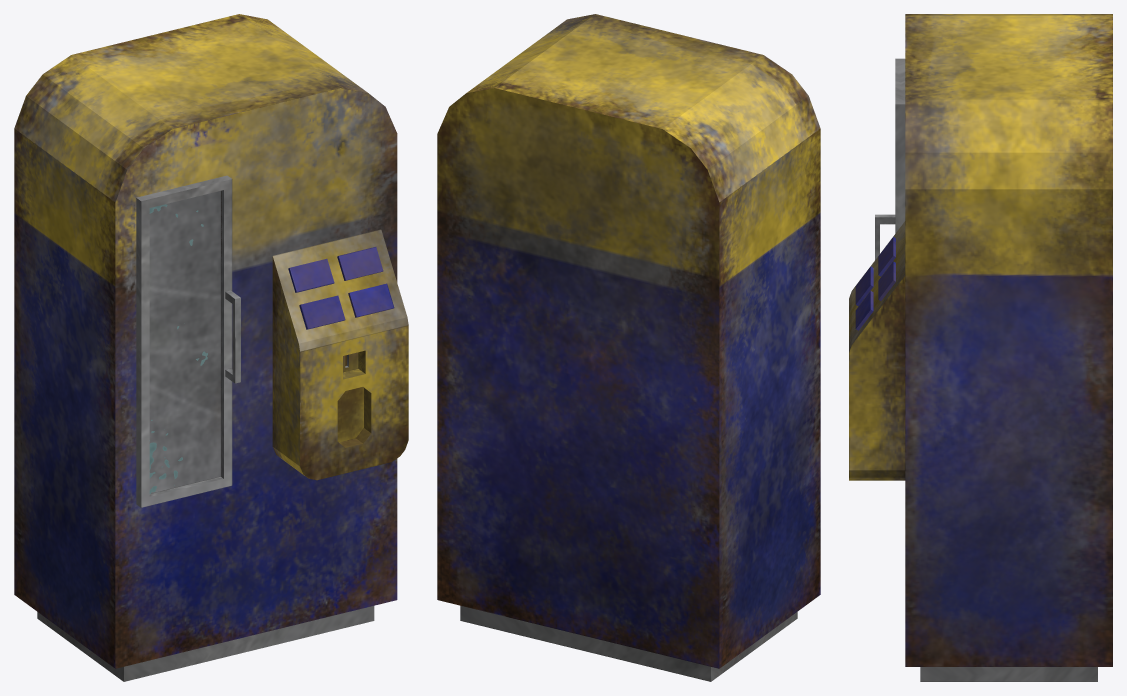
The model's file is Getränkeautomat.fbx.
The picture shows the model from 3 angles, left to right: view 1: azimuth 30°, elevation 25°; view 2: azimuth 150°, elevation 25°; view 3: azimuth 270°, elevation 25°; orthographic projection. The views are drawn at different scales.
Visible parts, largest first — view 1: object_1; view 2: object_1; view 3: object_1.
Boxes of the visible parts, x1,y1,x2,y2 form: object_1: (14,14,408,681); object_1: (437,14,820,681); object_1: (849,14,1112,681).
Size of the model in its own units: 9851 by 18300 by 7786.
